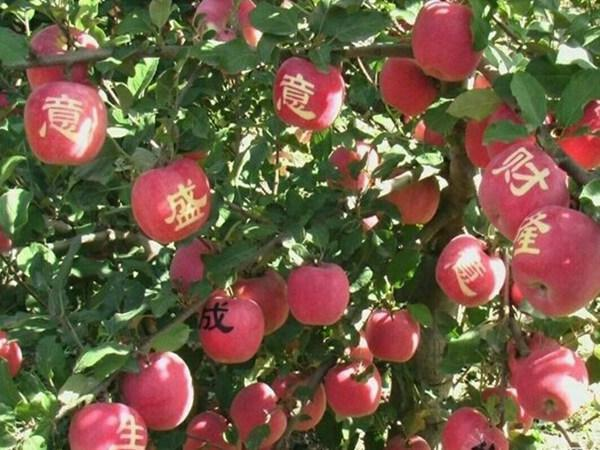apple: (511, 203, 600, 318), (477, 140, 572, 239), (129, 153, 211, 244), (23, 77, 107, 165), (514, 342, 589, 422), (119, 349, 193, 430), (412, 1, 485, 81), (271, 55, 346, 130), (433, 233, 507, 308), (24, 22, 103, 89), (198, 295, 264, 363), (287, 258, 350, 325), (230, 379, 288, 449), (68, 400, 149, 450), (231, 268, 288, 335), (377, 166, 440, 226), (325, 357, 382, 418), (439, 405, 509, 450), (365, 307, 421, 361), (1, 338, 22, 378)
